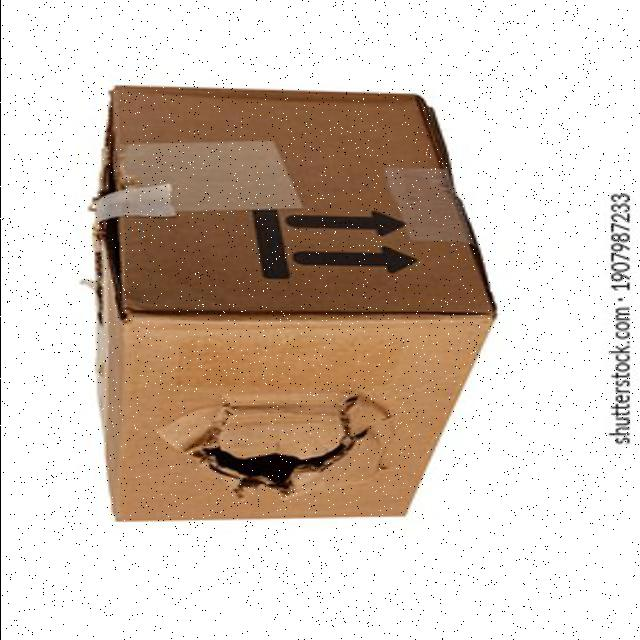defect: (76, 83, 498, 529)
